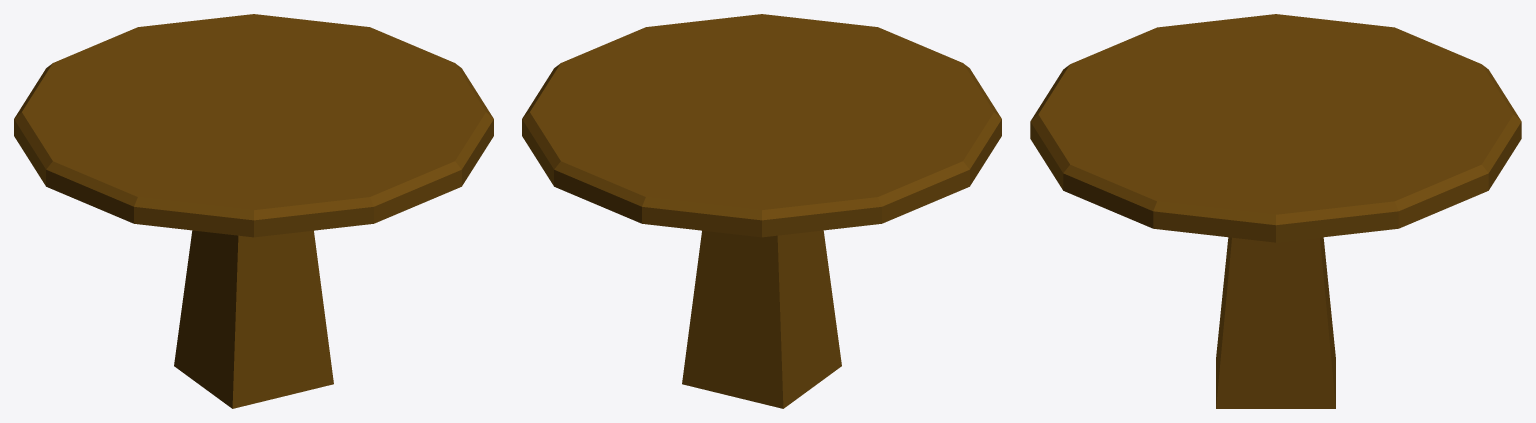
File: Table_03.glb
3 views of the same model, side by side, from view 1: azimuth 30°, elevation 25°; view 2: azimuth 150°, elevation 25°; view 3: azimuth 270°, elevation 25° (orthographic). The views are drawn at different scales.
Parts seen in each view (by area): view 1: Table_03; view 2: Table_03; view 3: Table_03.
Part boxes in pixels (x1=…): Table_03: x1=14, y1=14, x2=493, y2=408; Table_03: x1=522, y1=14, x2=1001, y2=408; Table_03: x1=1030, y1=14, x2=1521, y2=408.
Bounding box in the file's own units: 2 × 1.21 × 2.
